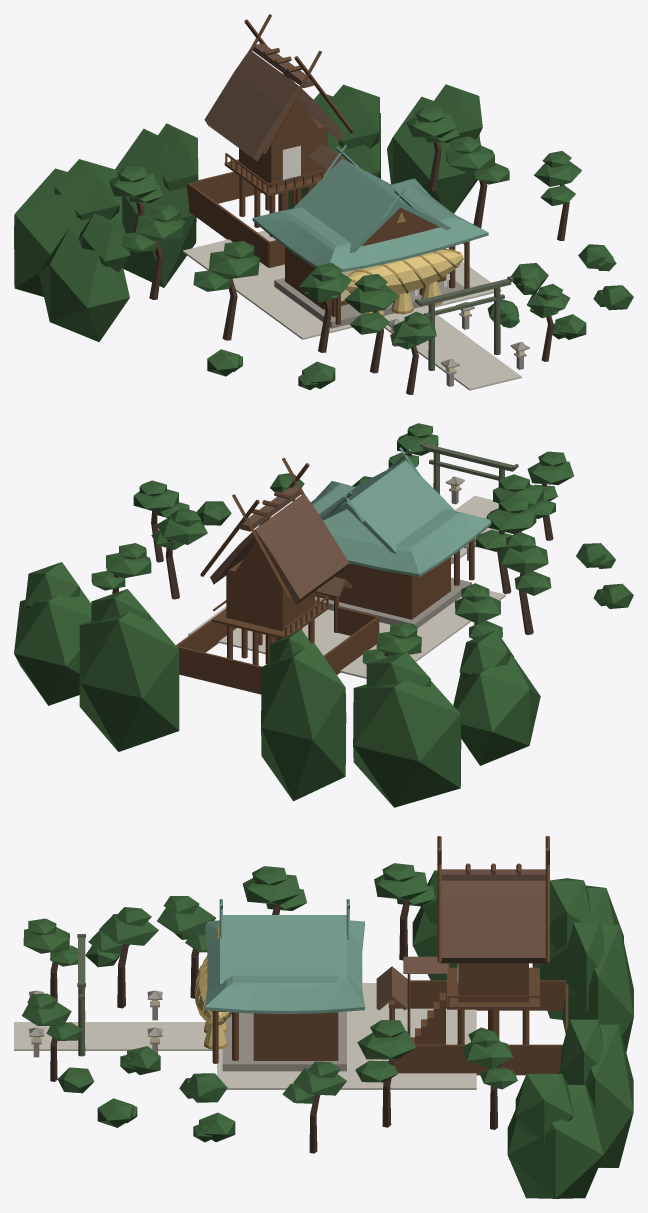
The model's file is izumo-taisha.glb.
3 views of the same model, one above another, from view 1: azimuth 30°, elevation 25°; view 2: azimuth 150°, elevation 25°; view 3: azimuth 270°, elevation 25° (orthographic). The views are drawn at different scales.
Parts seen in each view (by area): view 1: izumo_pine, izumo_wood, izumo_roof, izumo_pave, izumo_barkroof, izumo_bark, izumo_straw, izumo_stone, izumo_bronze, izumo_strawdk, izumo_white; view 2: izumo_pine, izumo_wood, izumo_roof, izumo_barkroof, izumo_pave, izumo_bark, izumo_stone, izumo_bronze; view 3: izumo_pine, izumo_wood, izumo_roof, izumo_barkroof, izumo_pave, izumo_stone, izumo_bark, izumo_straw, izumo_bronze.
Part boxes in pixels (x1,y1,x2,y2): izumo_pine: [14, 84, 633, 389]; izumo_wood: [187, 14, 469, 324]; izumo_roof: [252, 144, 488, 272]; izumo_pave: [183, 230, 521, 390]; izumo_barkroof: [204, 43, 349, 169]; izumo_bark: [134, 142, 569, 394]; izumo_straw: [345, 250, 463, 315]; izumo_stone: [274, 275, 529, 386]; izumo_bronze: [415, 276, 513, 370]; izumo_strawdk: [347, 211, 460, 316]; izumo_white: [282, 145, 449, 296]; izumo_pine: [14, 423, 633, 807]; izumo_wood: [176, 457, 474, 694]; izumo_roof: [311, 447, 491, 576]; izumo_barkroof: [210, 487, 352, 604]; izumo_pave: [188, 495, 505, 678]; izumo_bark: [112, 453, 553, 656]; izumo_stone: [315, 476, 476, 628]; izumo_bronze: [420, 441, 518, 532]; izumo_pine: [22, 863, 633, 1198]; izumo_wood: [212, 836, 568, 1075]; izumo_roof: [204, 899, 364, 1014]; izumo_barkroof: [376, 869, 547, 1010]; izumo_pave: [14, 983, 476, 1089]; izumo_stone: [29, 990, 346, 1071]; izumo_bark: [50, 900, 501, 1153]; izumo_straw: [195, 957, 230, 1046]; izumo_bronze: [77, 934, 85, 1056].
Bounding box in the file's own units: 20.8 × 11.06 × 21.98.
